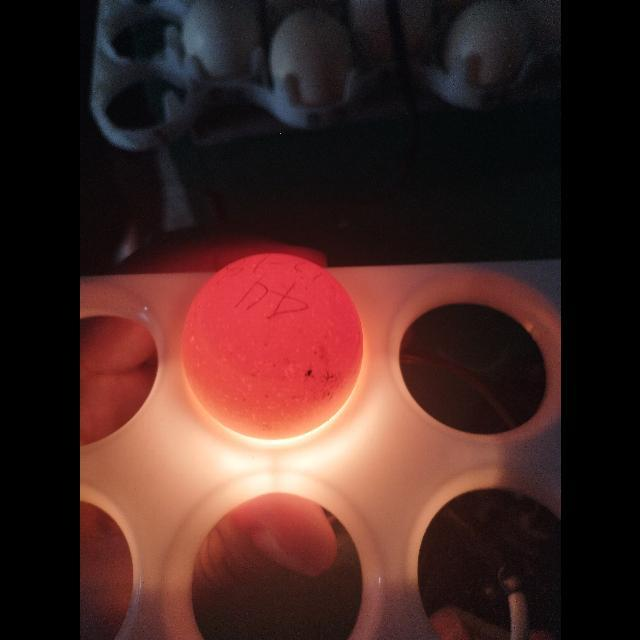Infertile: (178, 251, 366, 444)
